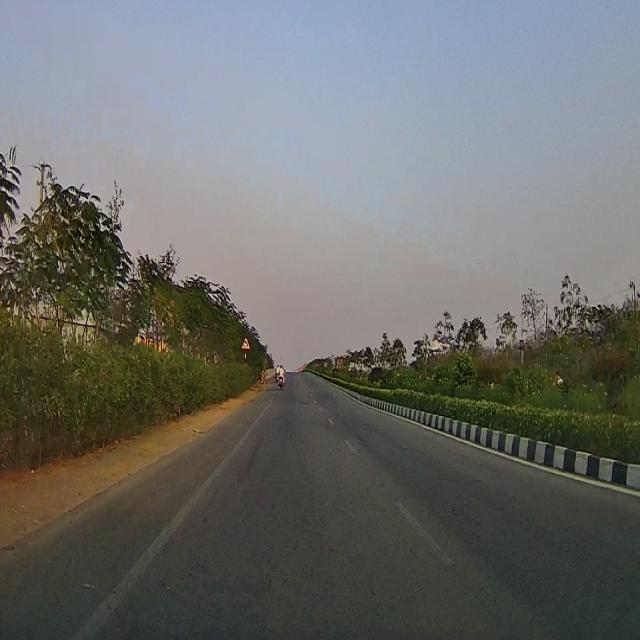left-hand-curve: (241, 334, 249, 352)
